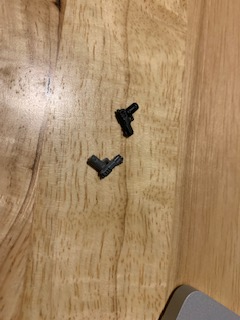pistol: (85, 147, 126, 179), (112, 101, 142, 139)
